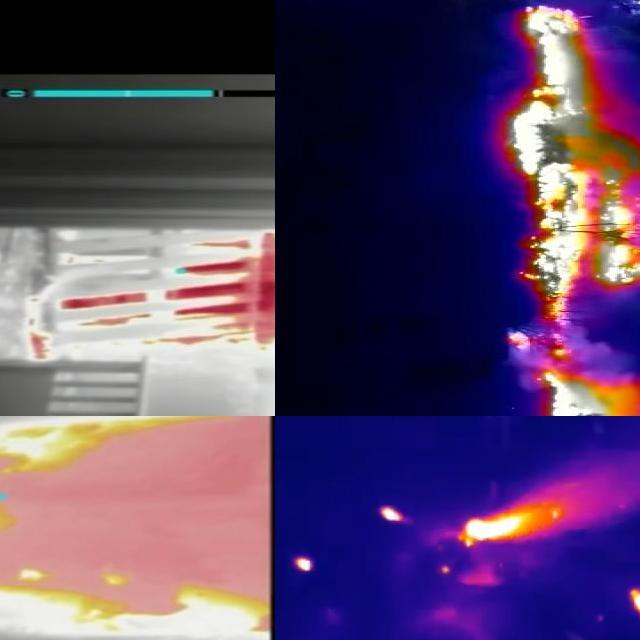fire: (1, 417, 274, 634), (502, 5, 640, 359), (162, 231, 276, 363), (455, 506, 569, 552), (534, 370, 640, 417), (376, 502, 406, 525), (625, 586, 640, 628), (290, 554, 318, 575)
